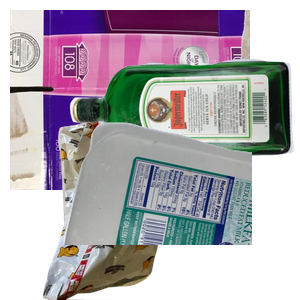cardboard: (10, 10, 250, 190)
glass: (67, 56, 300, 206)
plastic: (60, 120, 300, 300)
trash: (25, 120, 198, 300)
